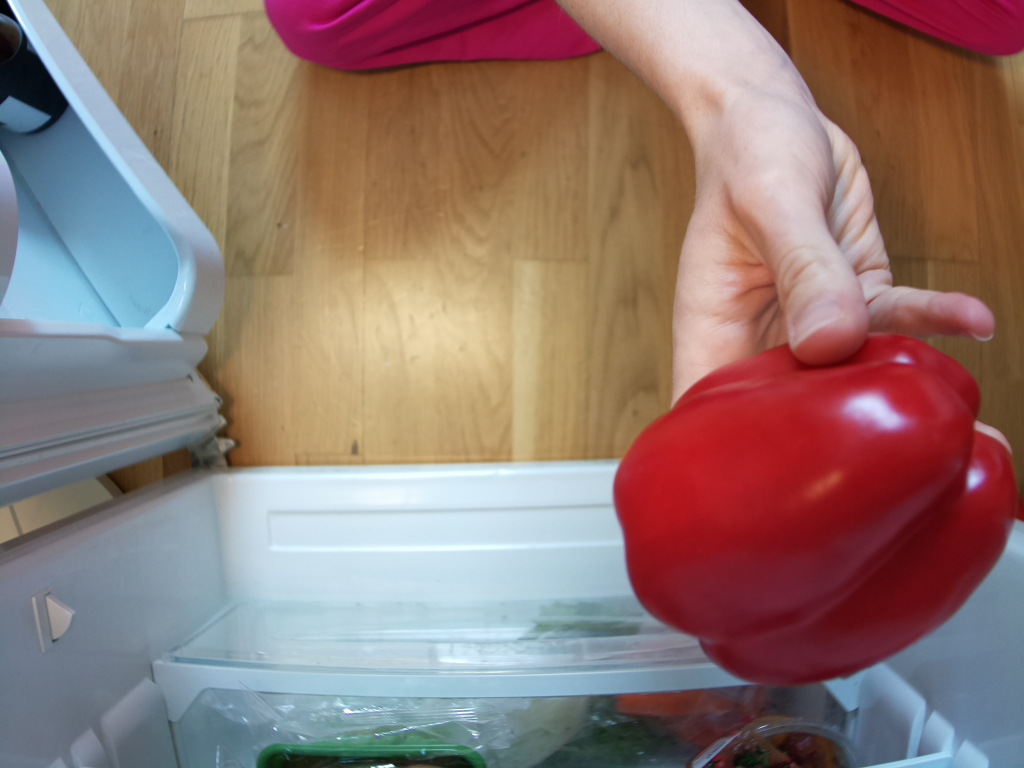pepper: (613, 332, 1021, 687)
